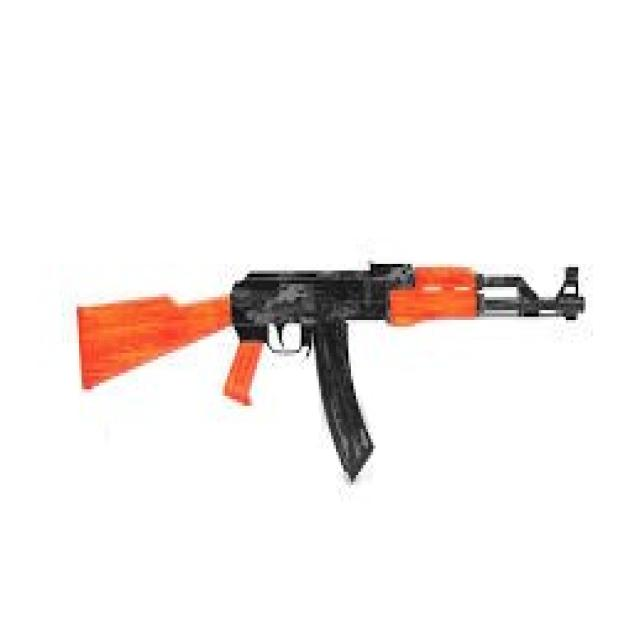rifle: (68, 240, 594, 491)
